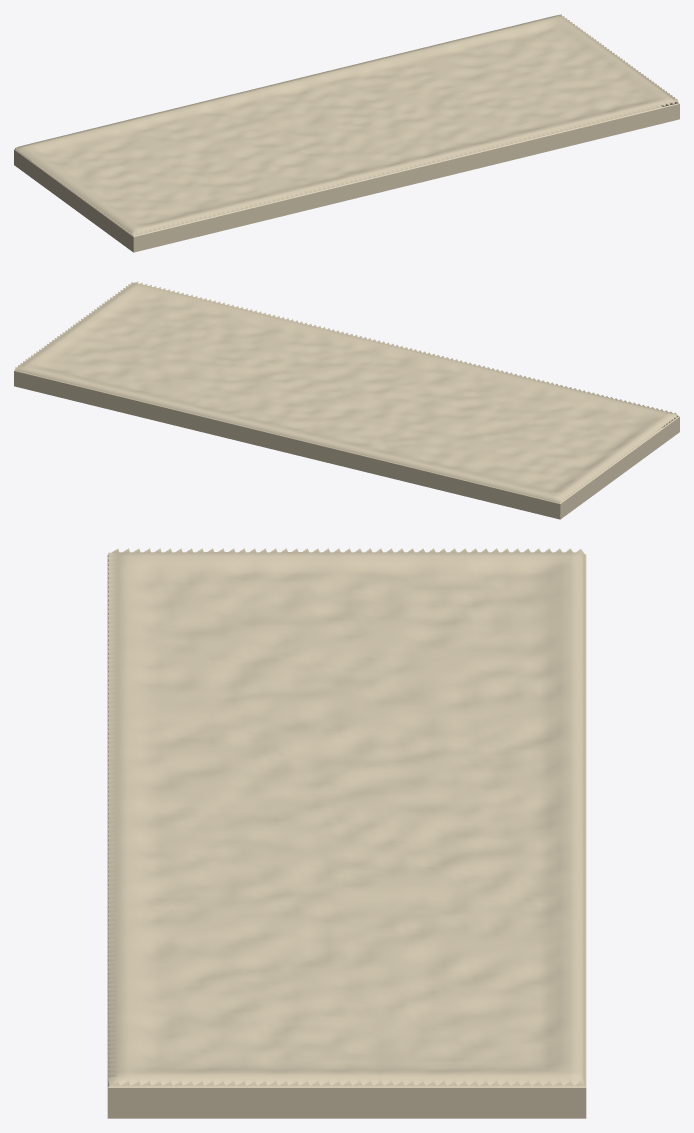
Rendered from mahsulot.glb.
3 renders of one model, top to bottom at view 1: azimuth 30°, elevation 25°; view 2: azimuth 150°, elevation 25°; view 3: azimuth 270°, elevation 25°, orthographic. The views are drawn at different scales.
Parts seen in each view (by area): view 1: mahsulot; view 2: mahsulot; view 3: mahsulot.
Part boxes in pixels (x1=…): mahsulot: x1=14, y1=14, x2=679, y2=252; mahsulot: x1=14, y1=281, x2=679, y2=519; mahsulot: x1=107, y1=548, x2=586, y2=1118.
Bounding box in the file's own units: 1.2 × 0.0398 × 0.455.
